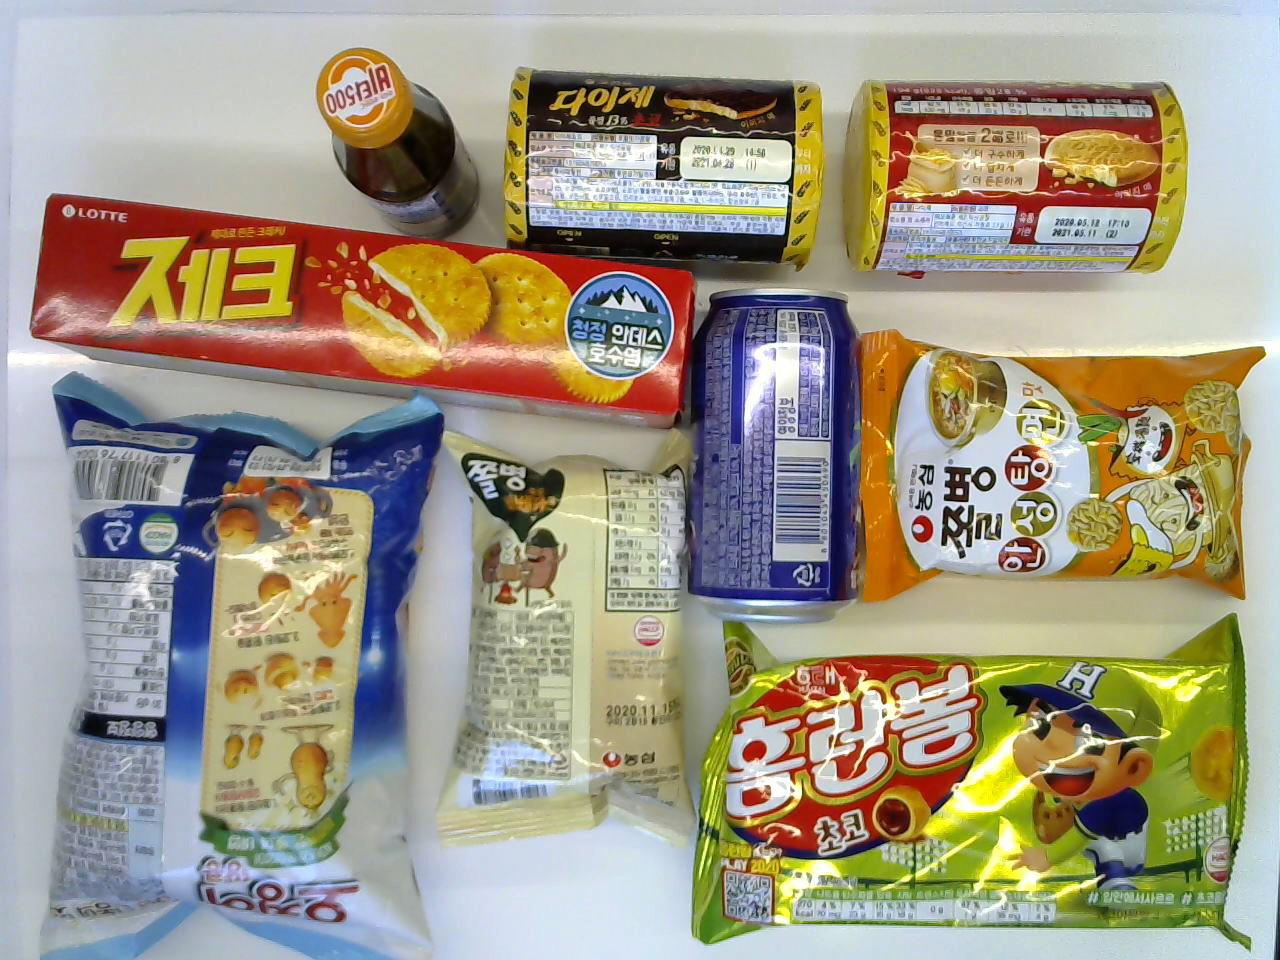diget_choco: (501, 65, 823, 272)
diget_ori: (838, 73, 1188, 279)
homerunball: (687, 610, 1251, 941)
jjolbyung_noodle: (852, 324, 1267, 608)
jjolbyung_ori: (433, 417, 705, 855)
squid_peanut: (29, 369, 442, 956)
vita500: (313, 44, 487, 242)
welchs: (686, 284, 861, 624)
zec: (25, 195, 694, 432)
